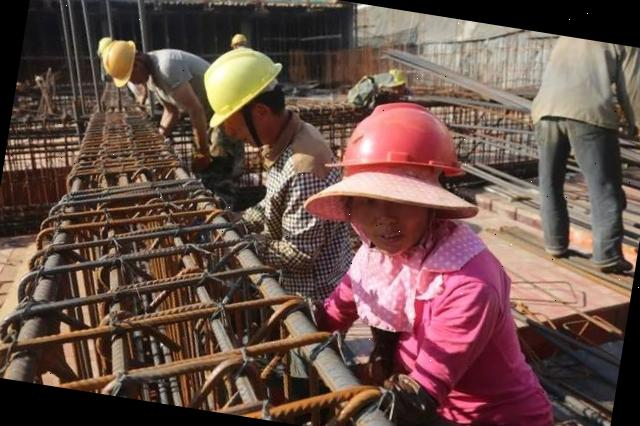helmet: (320, 88, 477, 188), (94, 35, 139, 91), (229, 32, 251, 50)
no_wear: (340, 242, 538, 426), (253, 128, 341, 290), (188, 37, 289, 137), (145, 45, 209, 108)
